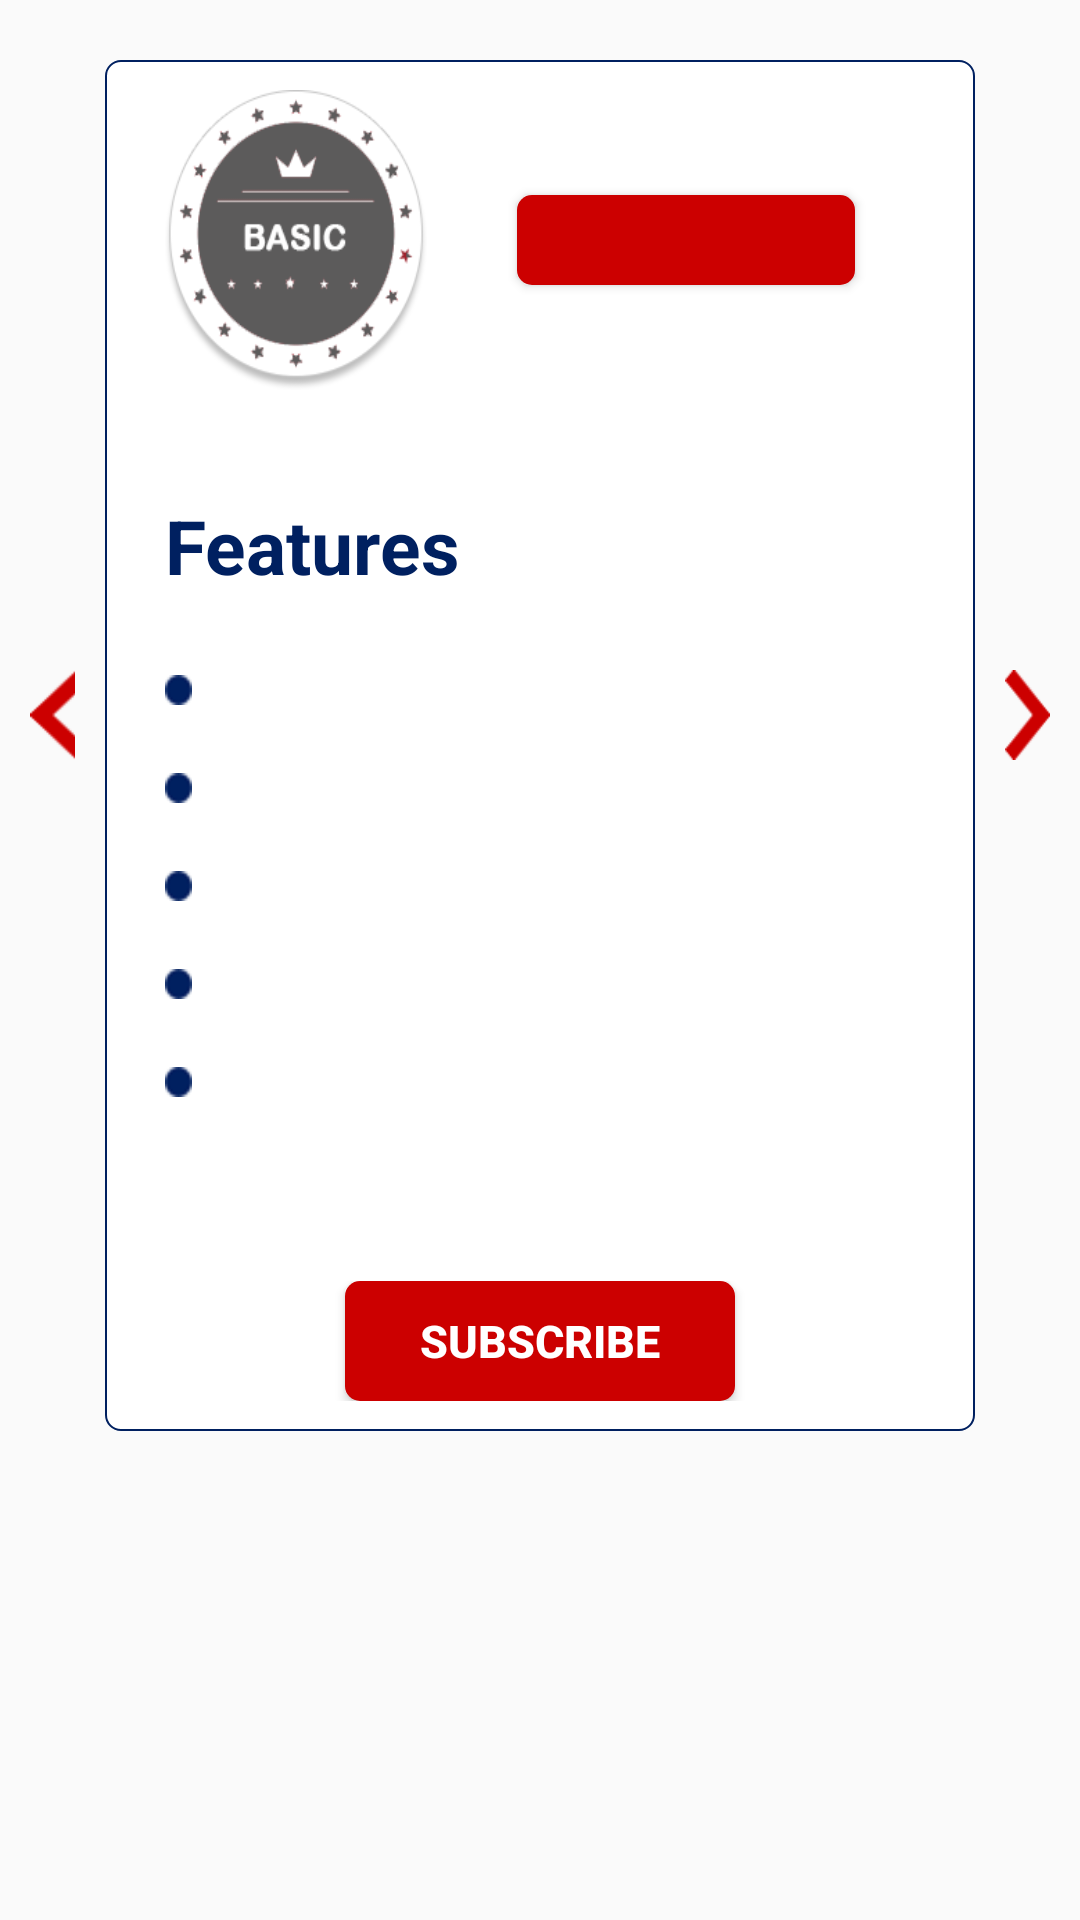

Named icons in this screenshot (1080px×1920px) and their centers, (x,y):
bullet: (178,690), (178,788), (178,886), (178,984), (178,1082)
